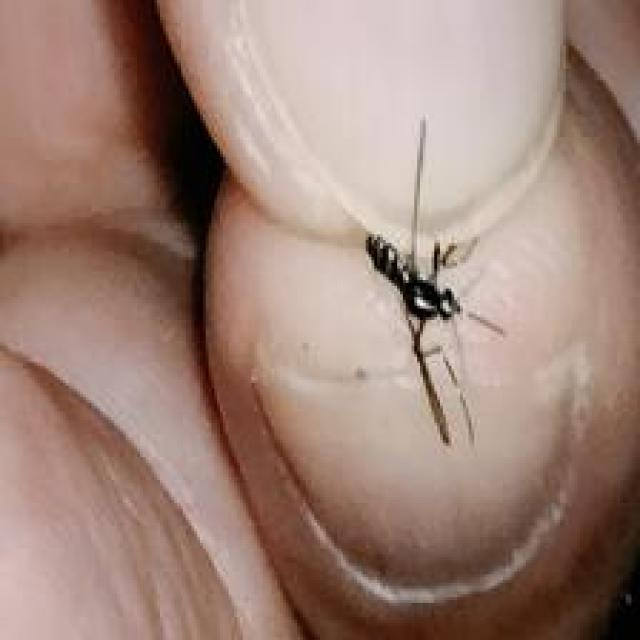Aedes albopictus: (362, 116, 507, 447)
